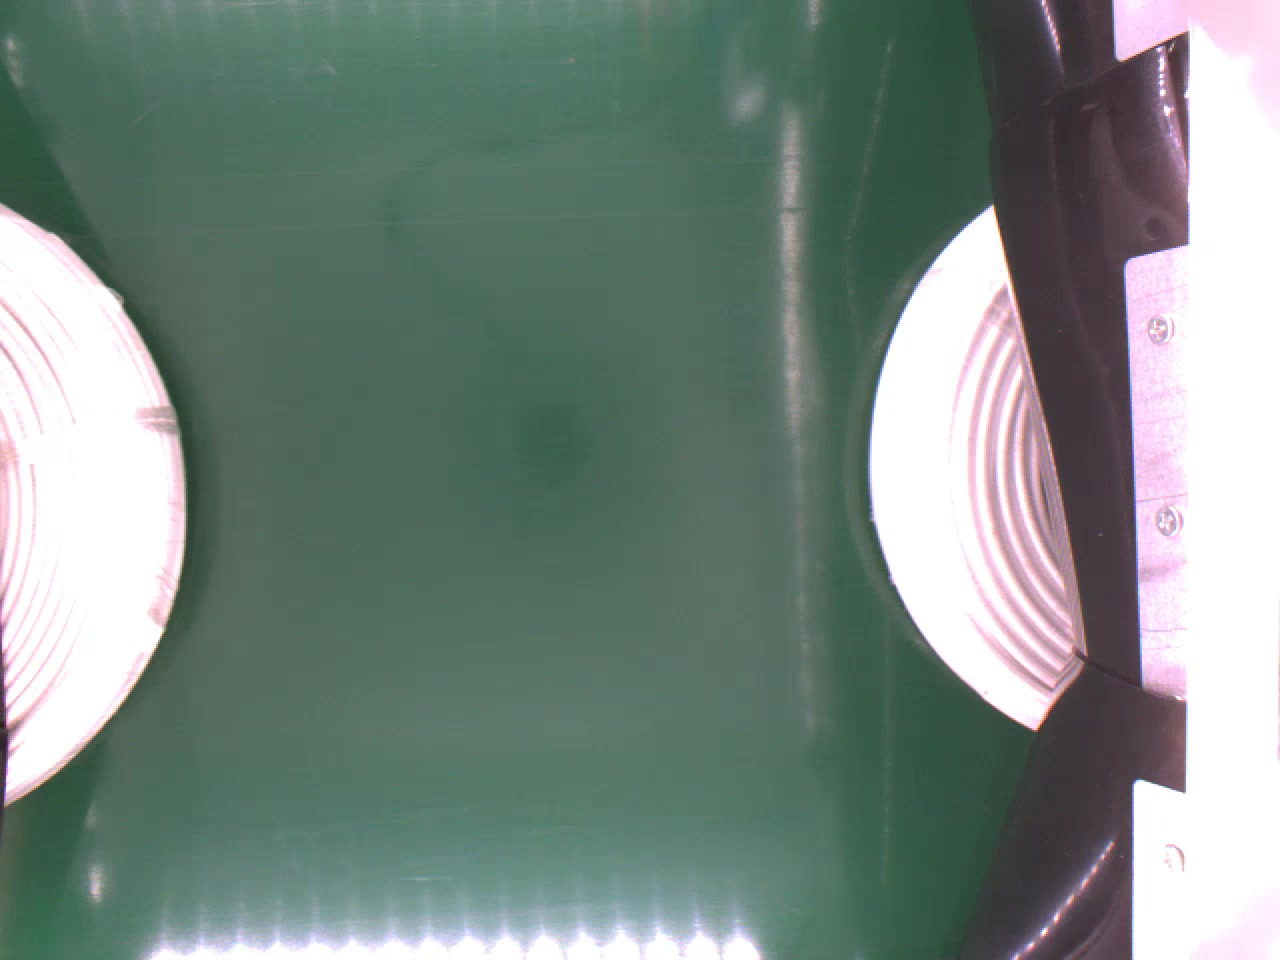white: (0, 203, 189, 802), (872, 197, 1083, 727)
